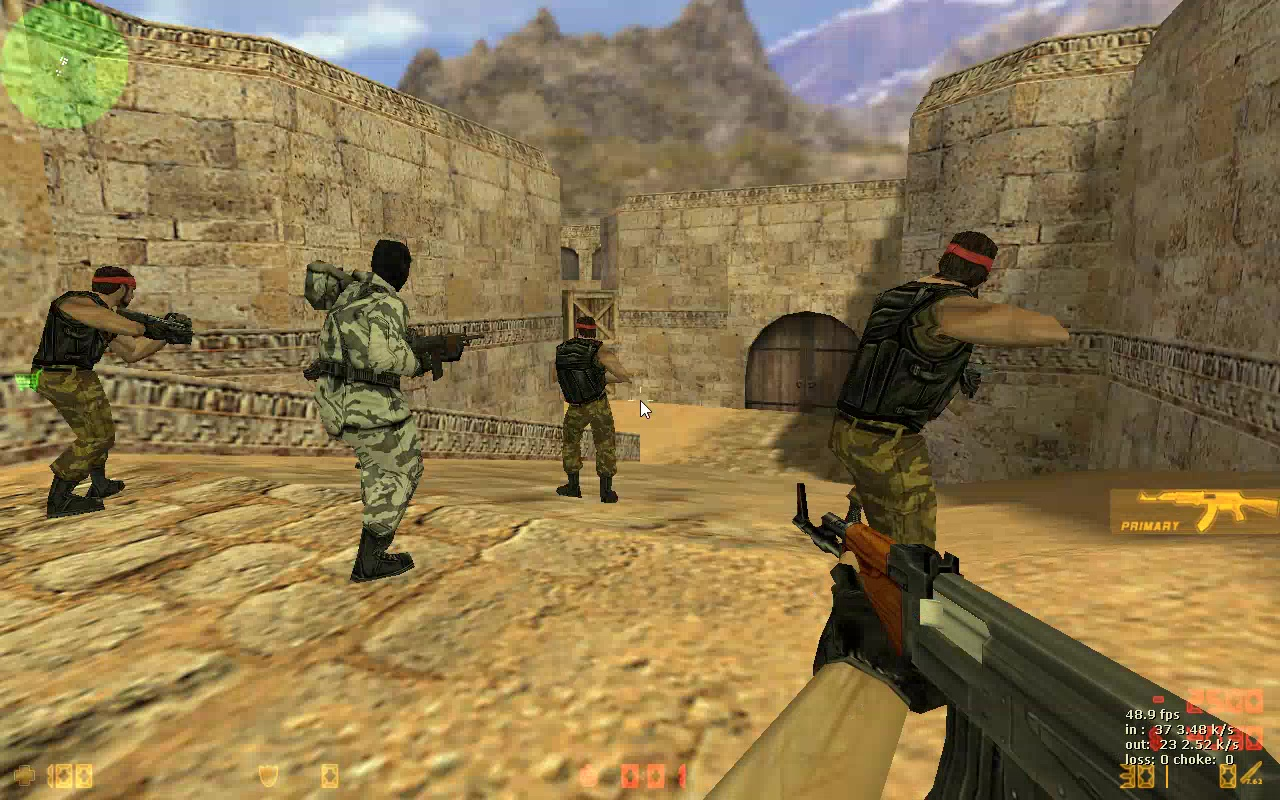terr2: (300, 238, 477, 586)
